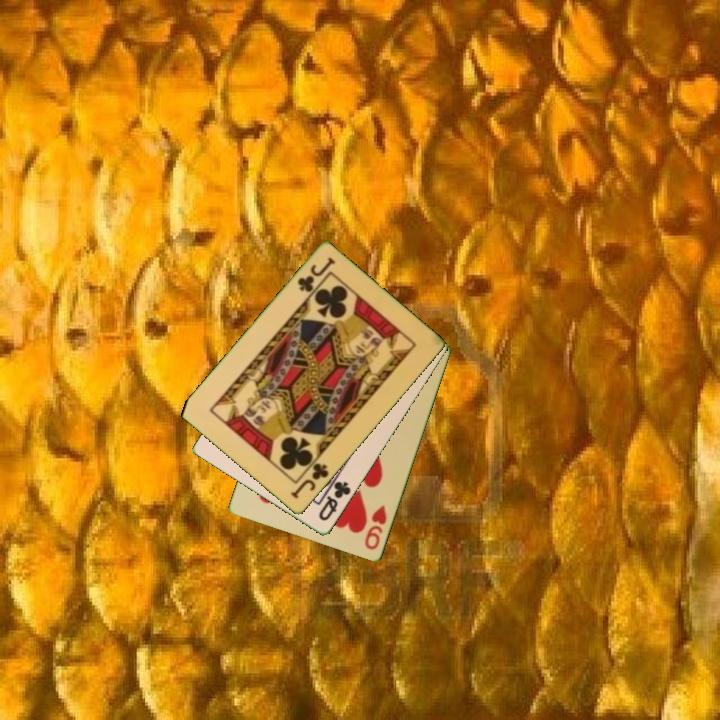9h: (361, 501, 390, 553)
Jc: (287, 460, 332, 502), (294, 254, 338, 296)
Qc: (315, 478, 354, 524)
